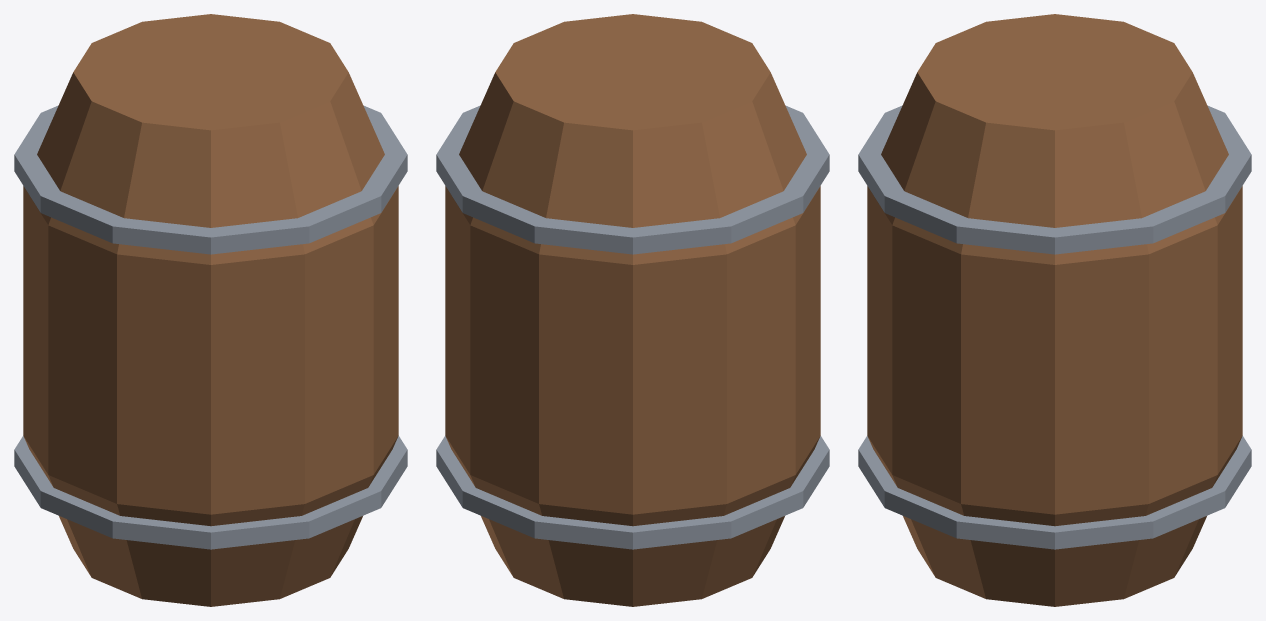
File: barrel.fbx
3 views of the same model, side by side, from view 1: azimuth 30°, elevation 25°; view 2: azimuth 150°, elevation 25°; view 3: azimuth 270°, elevation 25° (orthographic).
Parts seen in each view (by area): view 1: barrel; view 2: barrel; view 3: barrel.
Boxes of the visible parts, left/top/right/bottom form: barrel: left=14, top=14, right=407, bottom=606; barrel: left=436, top=14, right=829, bottom=606; barrel: left=858, top=14, right=1251, bottom=606.
Bounding box in the file's own units: 314 × 420 × 314.
